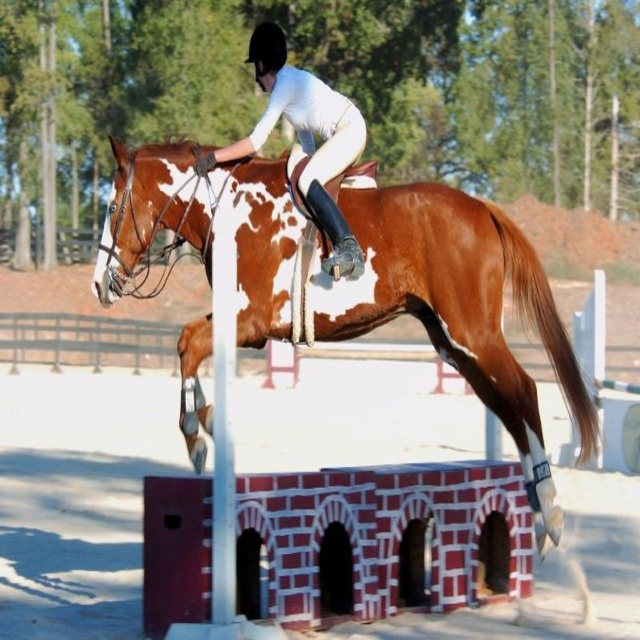Horse: (90, 135, 608, 563)
